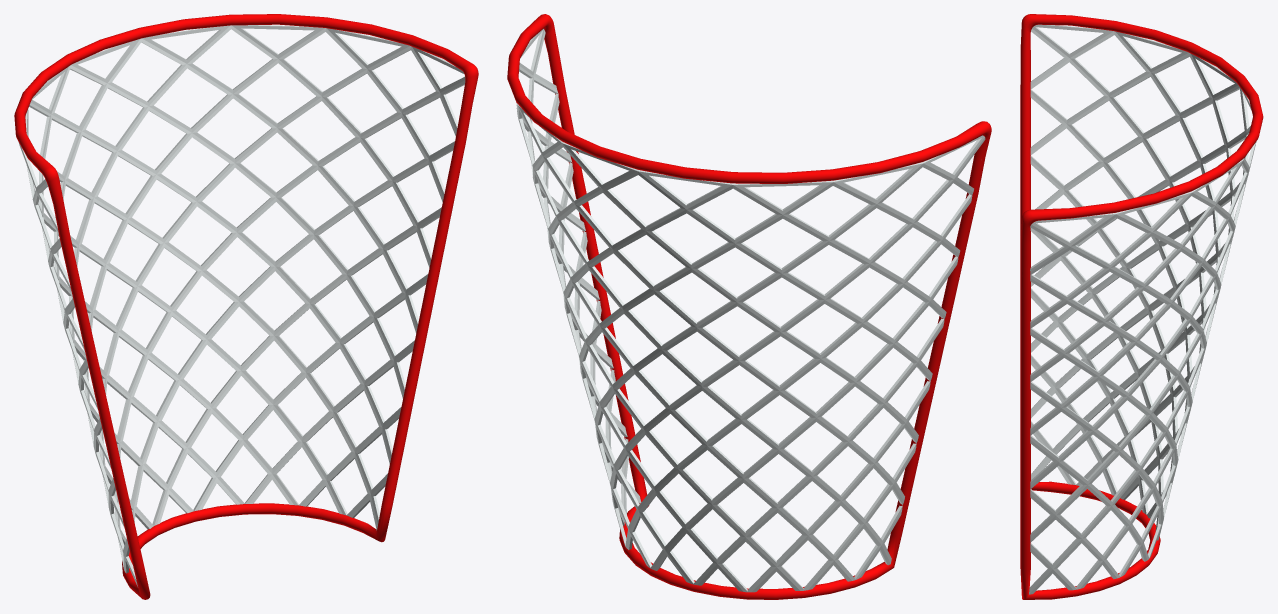
The model's file is SM_CastleNet.fbx.
3 renders of one model, left to right at view 1: azimuth 30°, elevation 25°; view 2: azimuth 150°, elevation 25°; view 3: azimuth 270°, elevation 25°, orthographic. The views are drawn at different scales.
Visible parts, largest first — view 1: SM_CastleNet; view 2: SM_CastleNet; view 3: SM_CastleNet.
Boxes of the visible parts, left/top/right/bottom form: SM_CastleNet: left=14, top=14, right=478, bottom=599; SM_CastleNet: left=507, top=14, right=991, bottom=599; SM_CastleNet: left=1020, top=14, right=1263, bottom=599.
Size of the model in its own units: 916 by 919 by 467.
